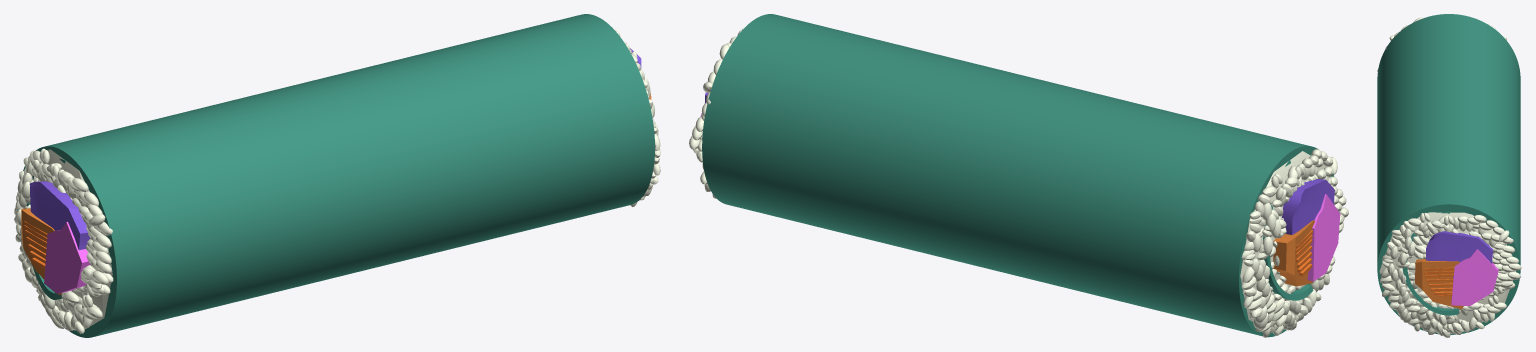
File: longsushii.fbx
The picture shows the model from 3 angles, left to right: view 1: azimuth 30°, elevation 25°; view 2: azimuth 150°, elevation 25°; view 3: azimuth 270°, elevation 25°; orthographic projection. The views are drawn at different scales.
Parts seen in each view (by area): view 1: Cylinder.002; view 2: Cylinder.002; view 3: Cylinder.002.
Part boxes in pixels (box(x1,y1,x2,y2)): Cylinder.002: box(14, 14, 660, 337); Cylinder.002: box(689, 14, 1348, 337); Cylinder.002: box(1377, 14, 1521, 337).
Size of the model in its own units: 1562 by 451 by 453.
